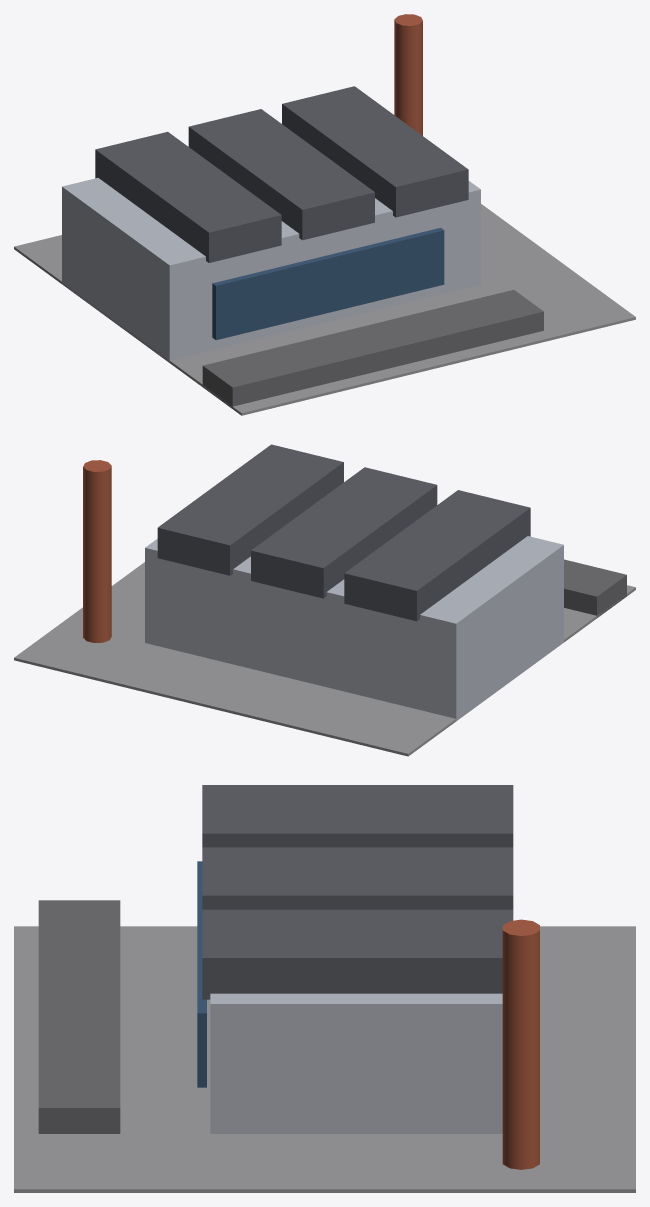
Rendered from factory.glb.
The picture shows the model from 3 angles, top to bottom: view 1: azimuth 30°, elevation 25°; view 2: azimuth 150°, elevation 25°; view 3: azimuth 270°, elevation 25°; orthographic projection. The views are drawn at different scales.
Parts seen in each view (by area): view 1: Shed1, Pad, Docks, Office, Saw1, Saw2, Saw3, Chimney; view 2: Shed1, Pad, Saw1, Saw2, Saw3, Chimney, Docks; view 3: Pad, Shed1, Saw3, Saw2, Saw1, Docks, Chimney, Office.
Boxes of the visible parts, <box> form: Shed1: <box>62,178,480,362</box>; Pad: <box>14,204,635,415</box>; Docks: <box>202,289,543,408</box>; Office: <box>212,227,444,340</box>; Saw1: <box>95,131,281,262</box>; Saw2: <box>188,109,374,240</box>; Saw3: <box>282,86,468,217</box>; Chimney: <box>394,14,422,135</box>; Shed1: <box>145,536,563,720</box>; Pad: <box>14,562,635,756</box>; Saw1: <box>344,490,530,621</box>; Saw2: <box>251,467,437,598</box>; Saw3: <box>157,444,343,575</box>; Chimney: <box>83,460,111,642</box>; Docks: <box>564,559,626,617</box>; Pad: <box>14,926,635,1192</box>; Shed1: <box>210,993,502,1133</box>; Saw3: <box>202,909,513,999</box>; Saw2: <box>202,847,513,909</box>; Saw1: <box>202,785,513,847</box>; Docks: <box>38,900,120,1133</box>; Chimney: <box>502,919,539,1169</box>; Office: <box>197,861,206,1087</box>.
Bounding box in the file's own units: 3.8 × 1.6 × 3.8.
